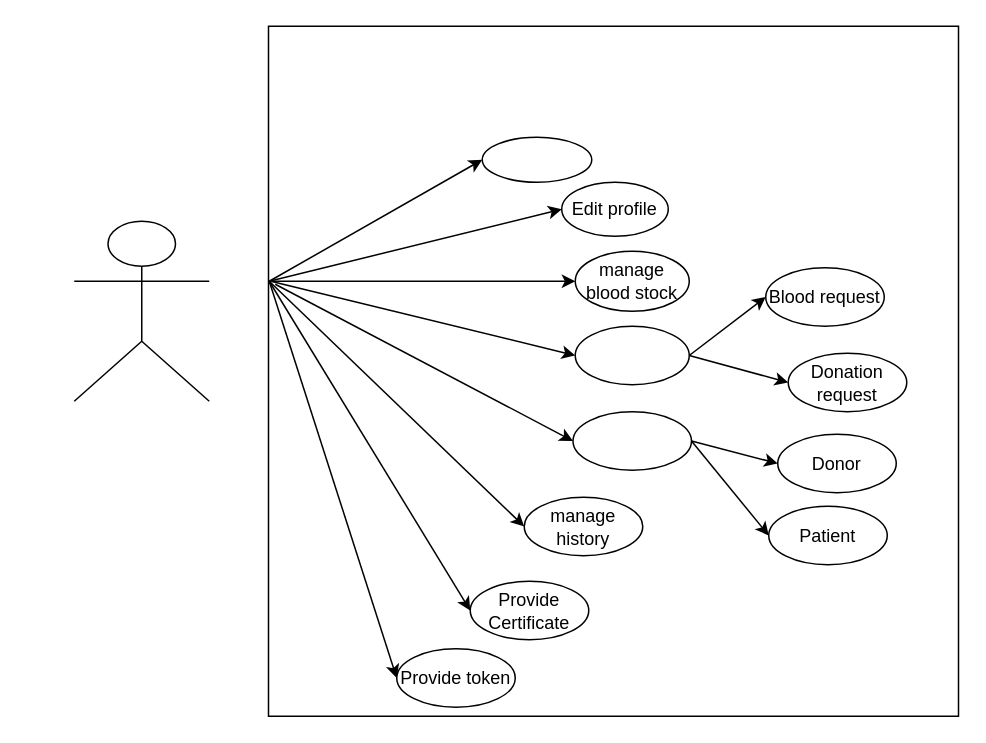
Some shapes in this 986 by 743 pixel diagram are drawn without their labels. The centre of each missing label's shape, as x and y in pixels:
"Admin(Blood Bank Manager)" belongs at pixel 141 310.
"Login" belongs at pixel 536 159.
"manage requests" belongs at pixel 631 355.
"manage users" belongs at pixel 632 440.
